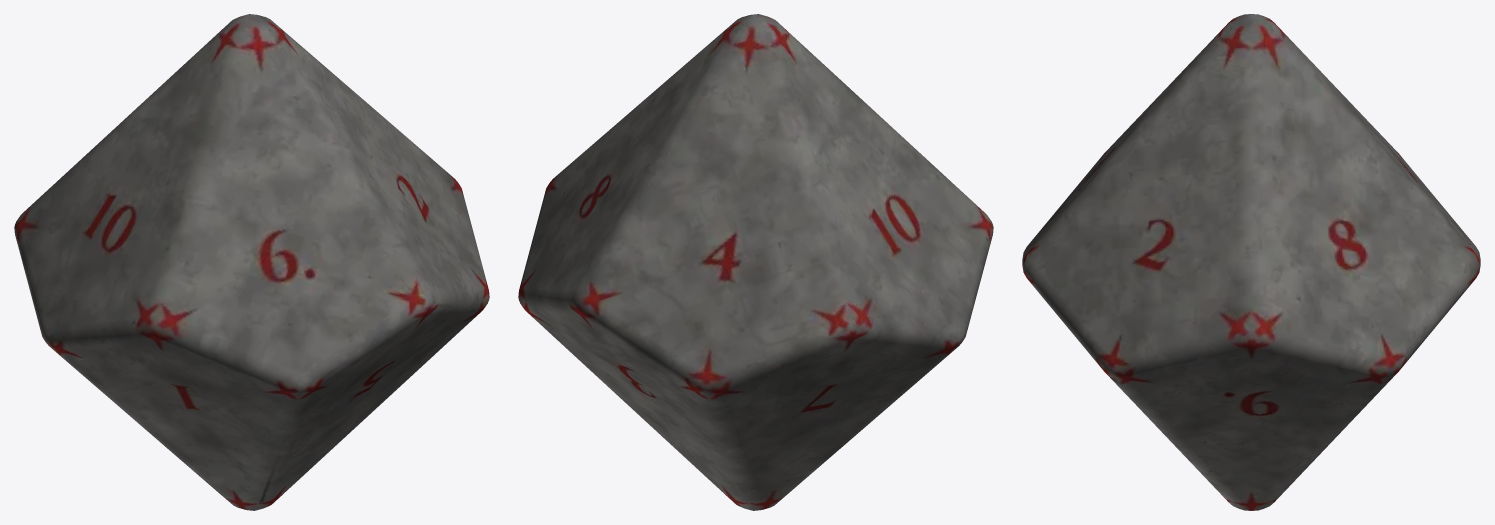
File: dunmer-d10.glb
3 views of the same model, side by side, from view 1: azimuth 30°, elevation 25°; view 2: azimuth 150°, elevation 25°; view 3: azimuth 270°, elevation 25° (orthographic).
Parts seen in each view (by area): view 1: dunmer_d10; view 2: dunmer_d10; view 3: dunmer_d10.
Boxes of the visible parts, x1,y1,x2,y2 form: dunmer_d10: [14, 14, 489, 510]; dunmer_d10: [518, 14, 993, 510]; dunmer_d10: [1022, 14, 1480, 510].
Bounding box in the file's own units: 1.66 × 1.91 × 1.59.
1 material, 1 textured.
